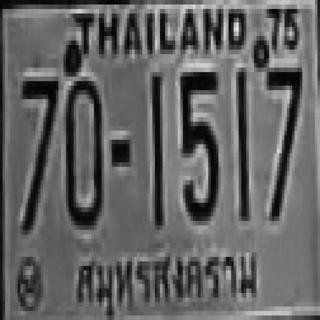N00: (65, 77, 103, 225)
N01: (150, 72, 163, 225), (235, 68, 248, 216)
N05: (179, 68, 217, 216)
N07: (20, 74, 58, 228), (266, 63, 301, 216)
P59: (70, 232, 258, 320)
